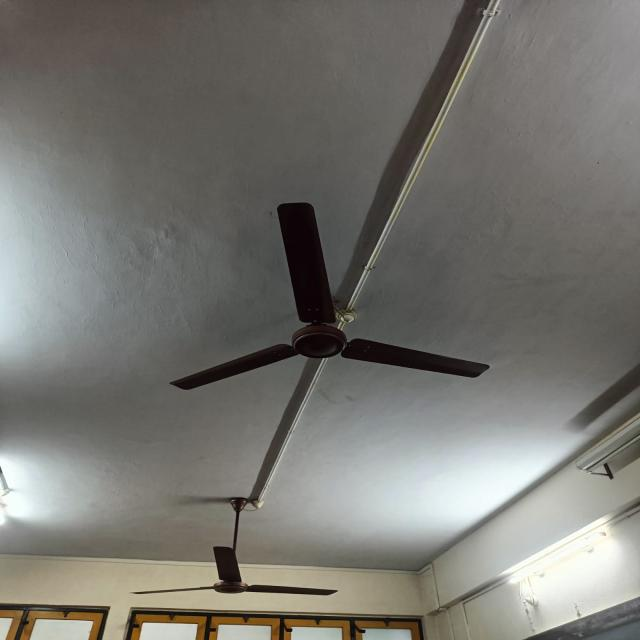fan_off: (168, 202, 490, 397)
